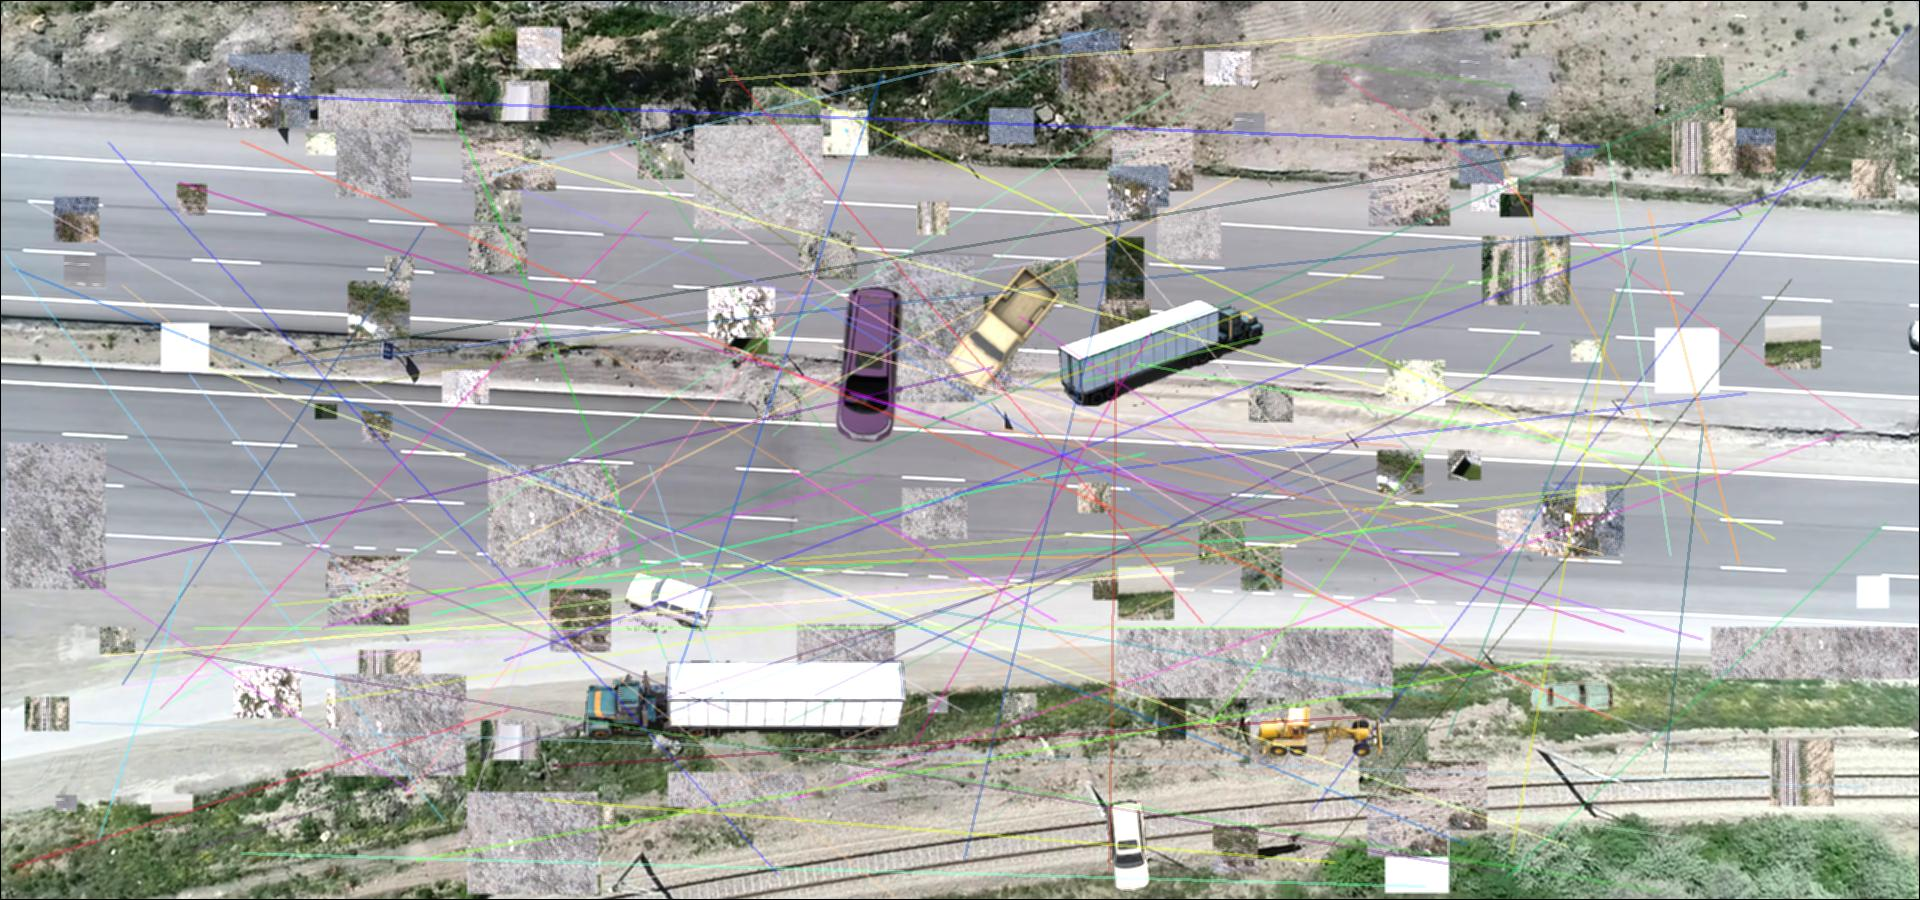arac: (584, 656, 906, 744), (1051, 301, 1265, 407), (937, 266, 1067, 396), (824, 282, 905, 443), (1255, 707, 1387, 760), (618, 571, 716, 633), (1100, 797, 1152, 893), (1524, 680, 1615, 711)
